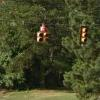Tree: (2, 0, 68, 74)
